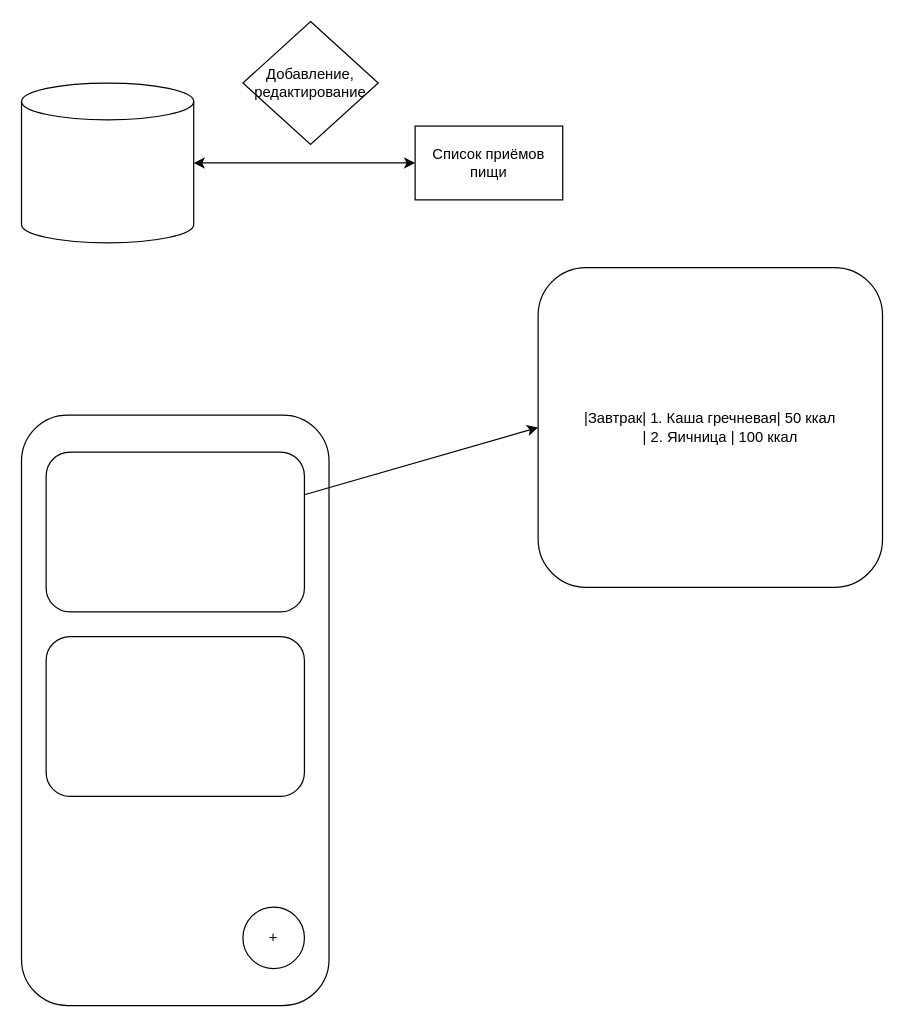
Some shapes in this 904 by 1027 pixel diagram are drawn without their labels. The shapes that lost their labels are listed below. From the top down, each one's centre as x and y in pixels, then its label:
At (x=107, y=162): "бд".
At (x=174, y=531): "1) Завтрак - ... 2) Обед ... 3) Ужин ....".
